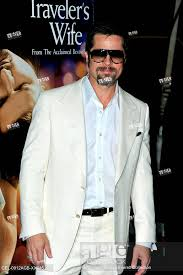F_belt: (72, 203, 126, 223)
